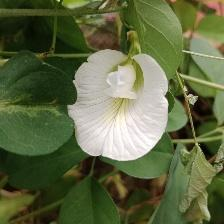shankupushpam: (68, 48, 176, 164)
